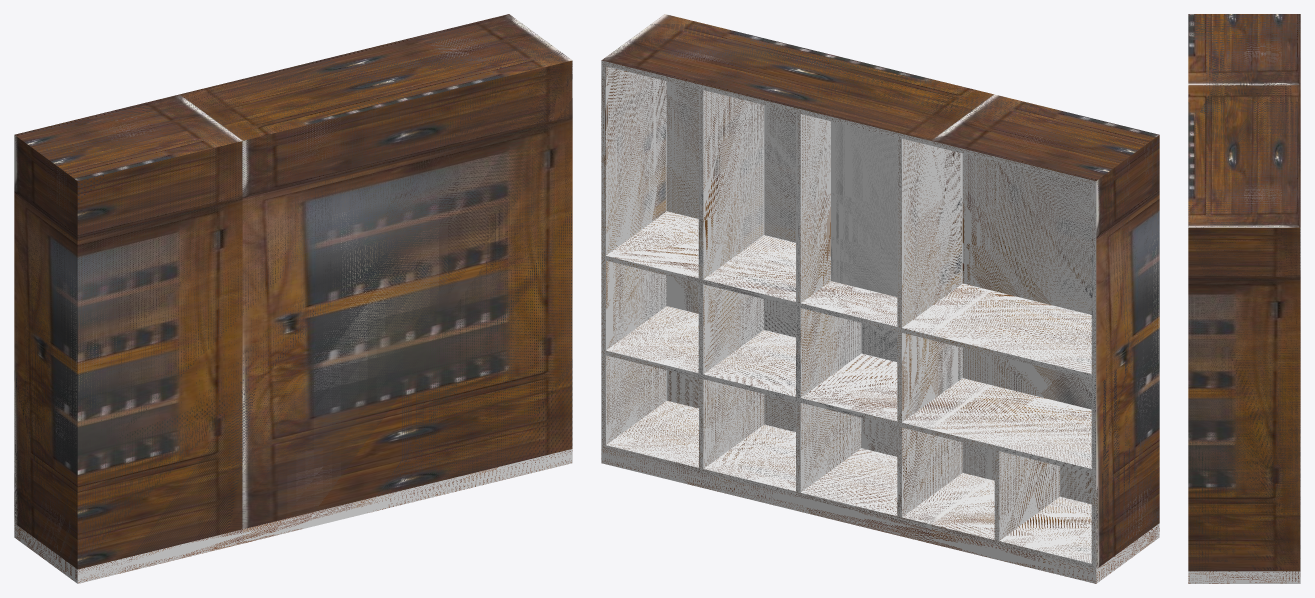
The picture shows the model from 3 angles, left to right: view 1: azimuth 30°, elevation 25°; view 2: azimuth 150°, elevation 25°; view 3: azimuth 270°, elevation 25°; orthographic projection. The views are drawn at different scales.
Visible parts, largest first — view 1: mesh1_mesh1-geometry; view 2: mesh1_mesh1-geometry; view 3: mesh1_mesh1-geometry.
Part boxes in pixels (box(x1,y1,x2,y2)): mesh1_mesh1-geometry: box(14, 14, 572, 583); mesh1_mesh1-geometry: box(601, 14, 1159, 583); mesh1_mesh1-geometry: box(1188, 14, 1300, 583).
Size of the model in its own units: 0.7775 by 0.6047 by 0.1728.
